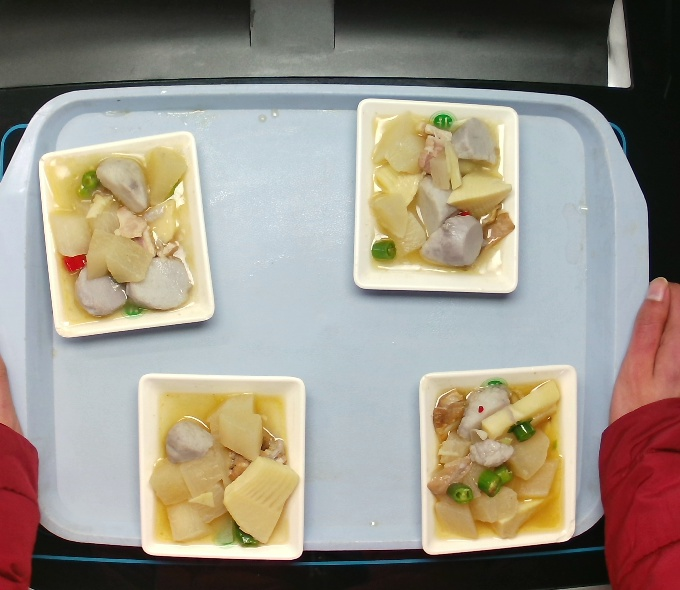wcq-YangYuChunSunDunLuoBo: (52, 149, 191, 315), (152, 380, 291, 546), (431, 378, 570, 544), (368, 109, 507, 275)
